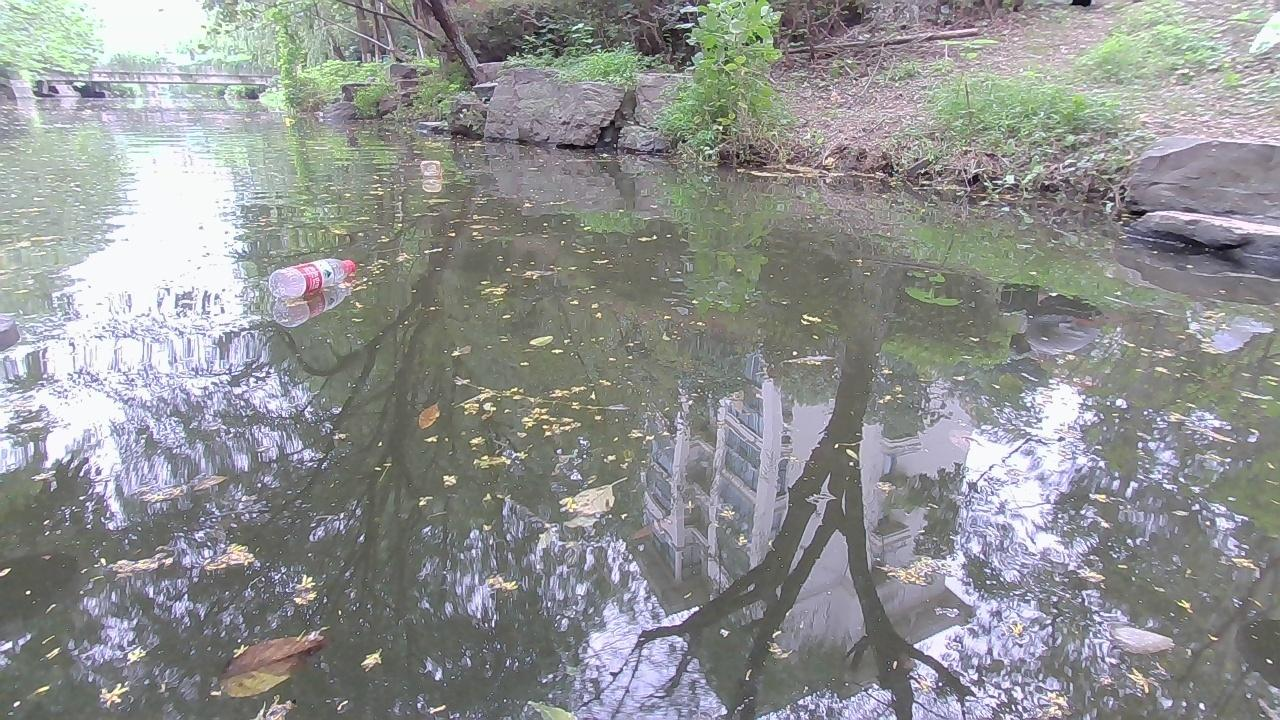bottle: (264, 250, 357, 295), (421, 157, 443, 179), (283, 118, 294, 128)
